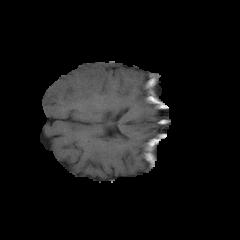glioma: (44, 67, 107, 108)
